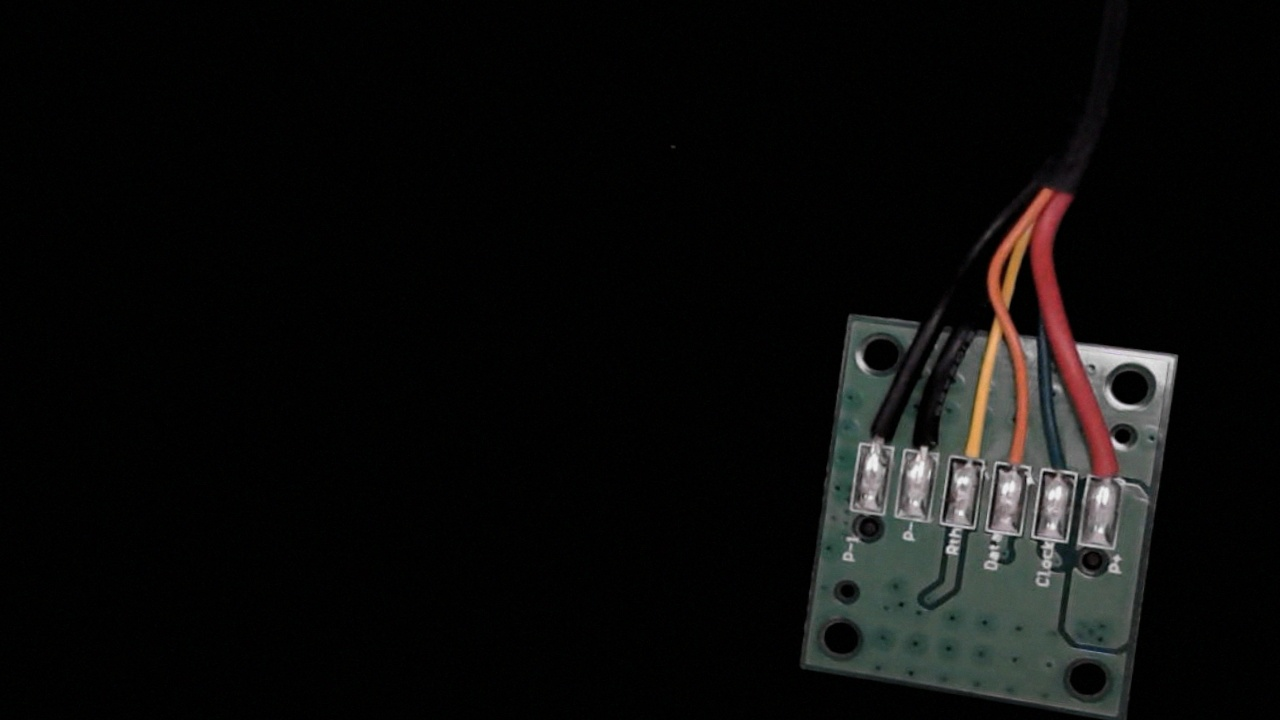Black: (898, 391, 951, 477)
Black1: (851, 391, 901, 470)
Green: (1035, 415, 1088, 498)
Orange: (991, 406, 1042, 491)
Red: (1083, 422, 1136, 505)
Yellow: (944, 396, 997, 483)
